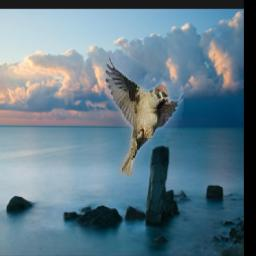Sparrow: (107, 55, 184, 177)
